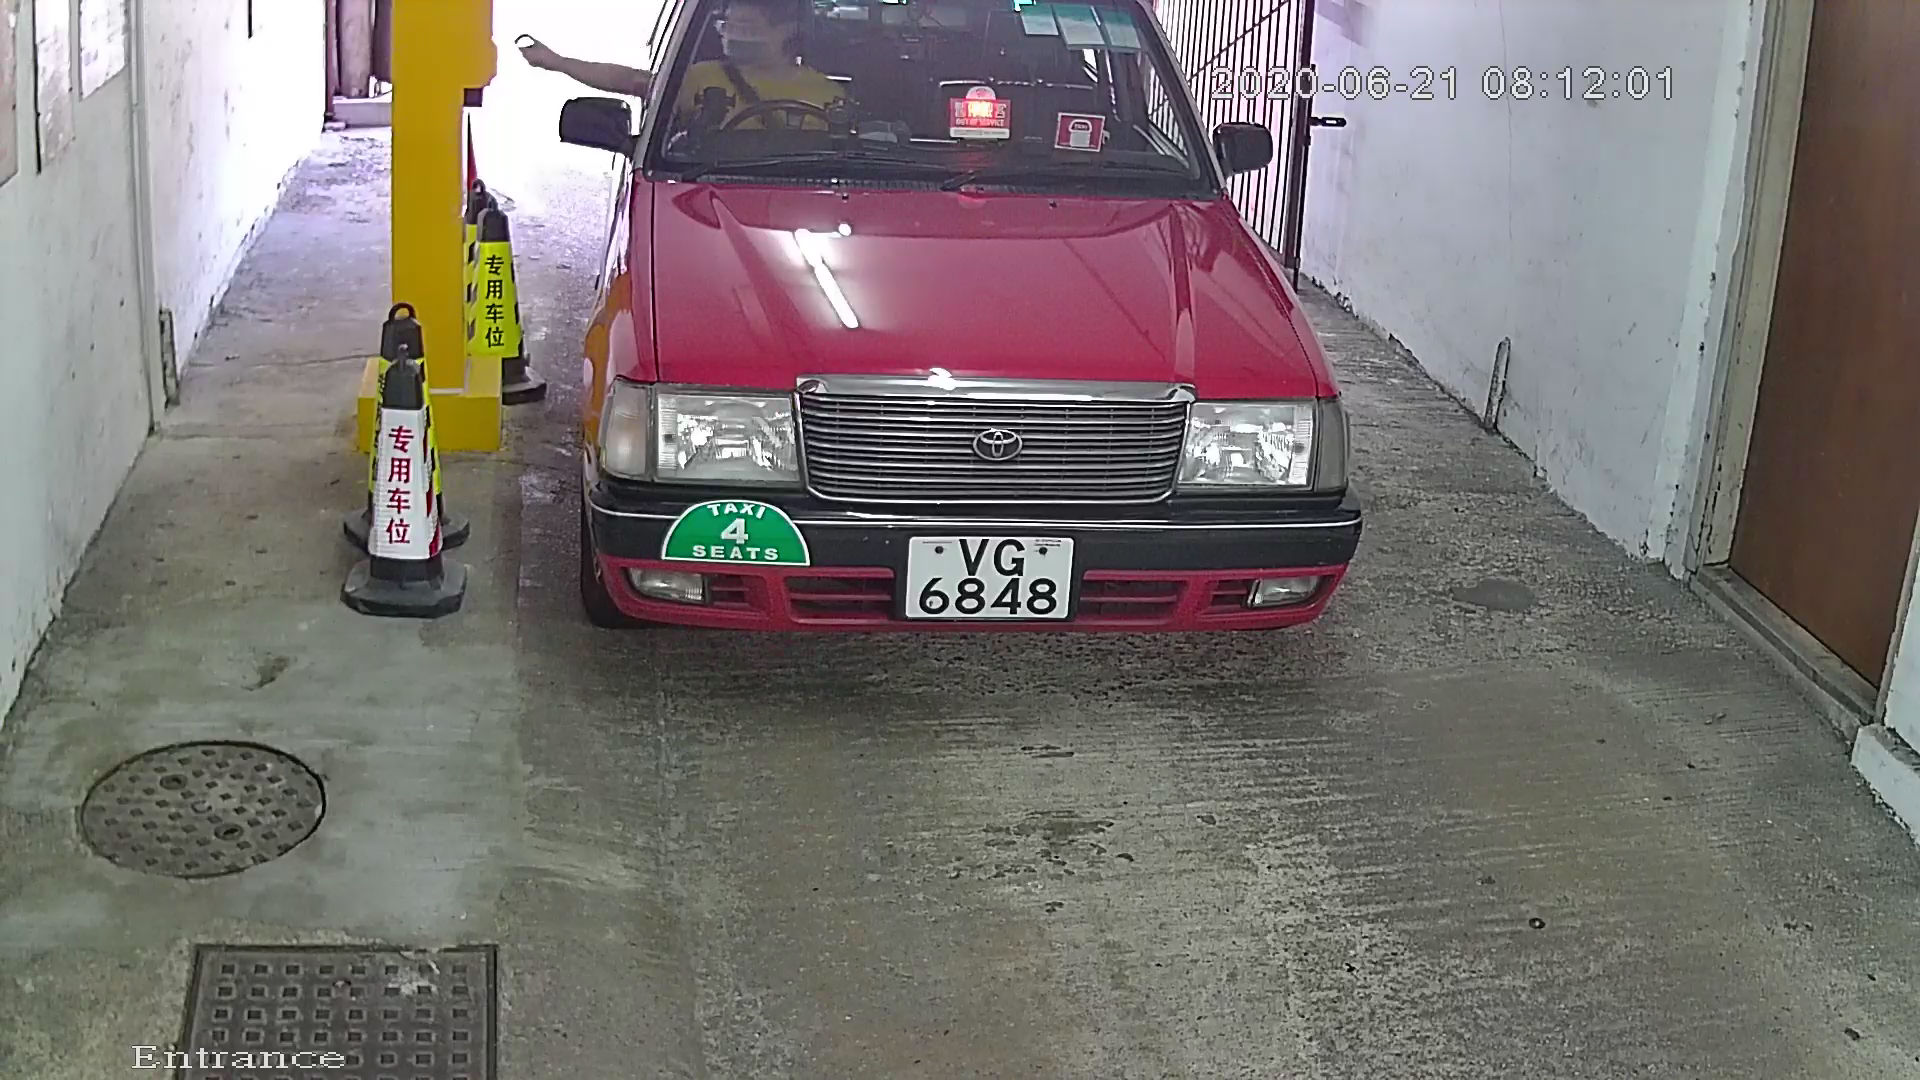taxi: (527, 3, 1389, 795)
taxi_mark: (649, 465, 843, 618)
